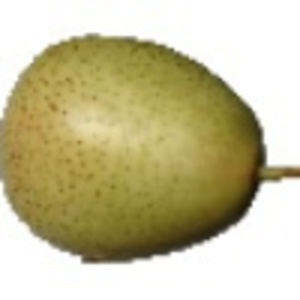pera: (1, 32, 300, 266)
